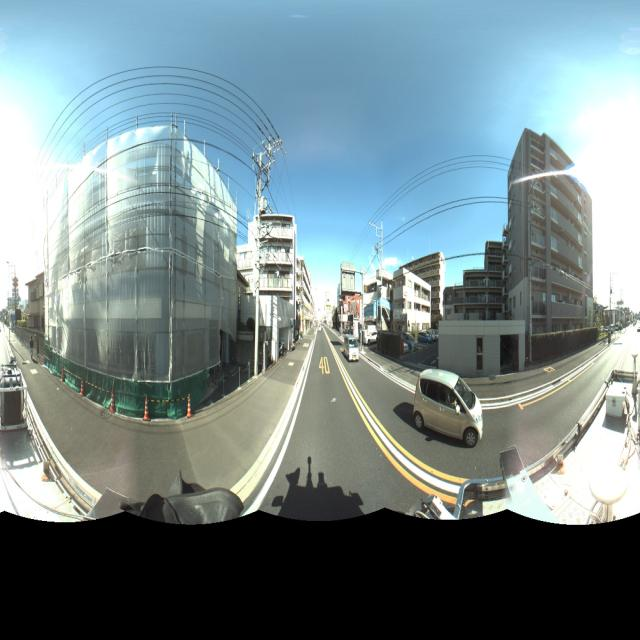b_1: (44, 115, 240, 387), (508, 136, 594, 351), (231, 204, 301, 360), (442, 226, 514, 359), (390, 260, 436, 342), (23, 264, 58, 349), (289, 257, 320, 343)
